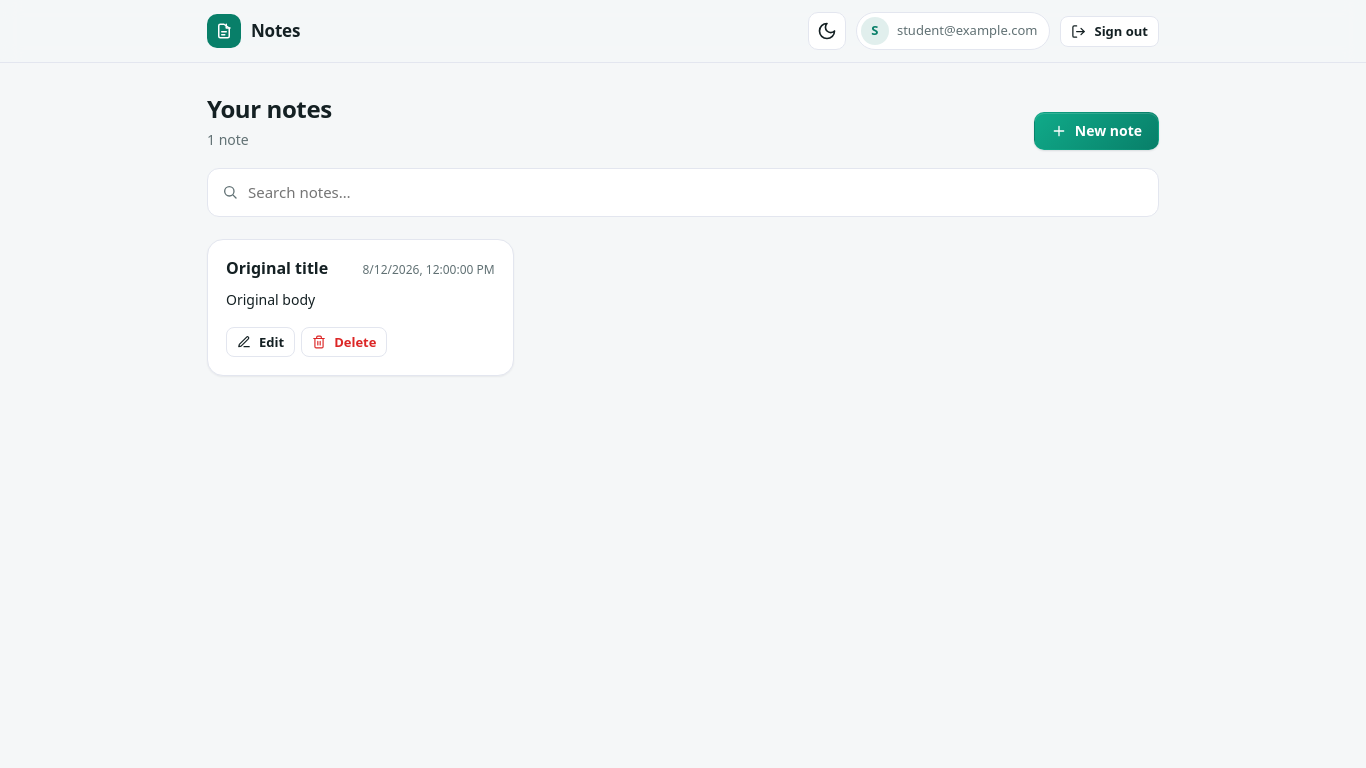
Test case: AppShell state transitions › creates a note and prepends it without a list refetch
The image size is (1366, 768).
Expected: the heading "Original title" is shown, [226,258,328,279]
Click the button "New note" at (1096, 131), box [1034,112,1159,150]
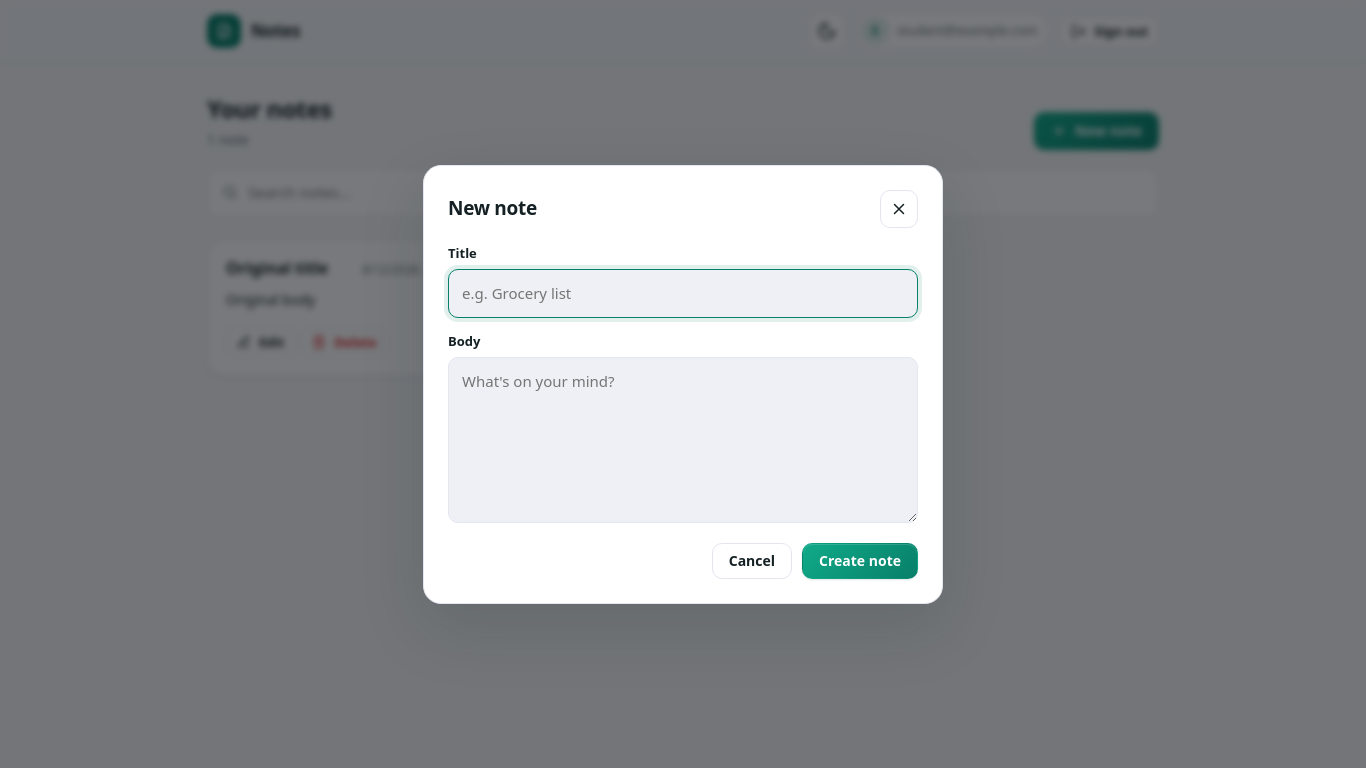
Type "New title" into the field labelled "Title" at (683, 293), box [448,269,918,318]
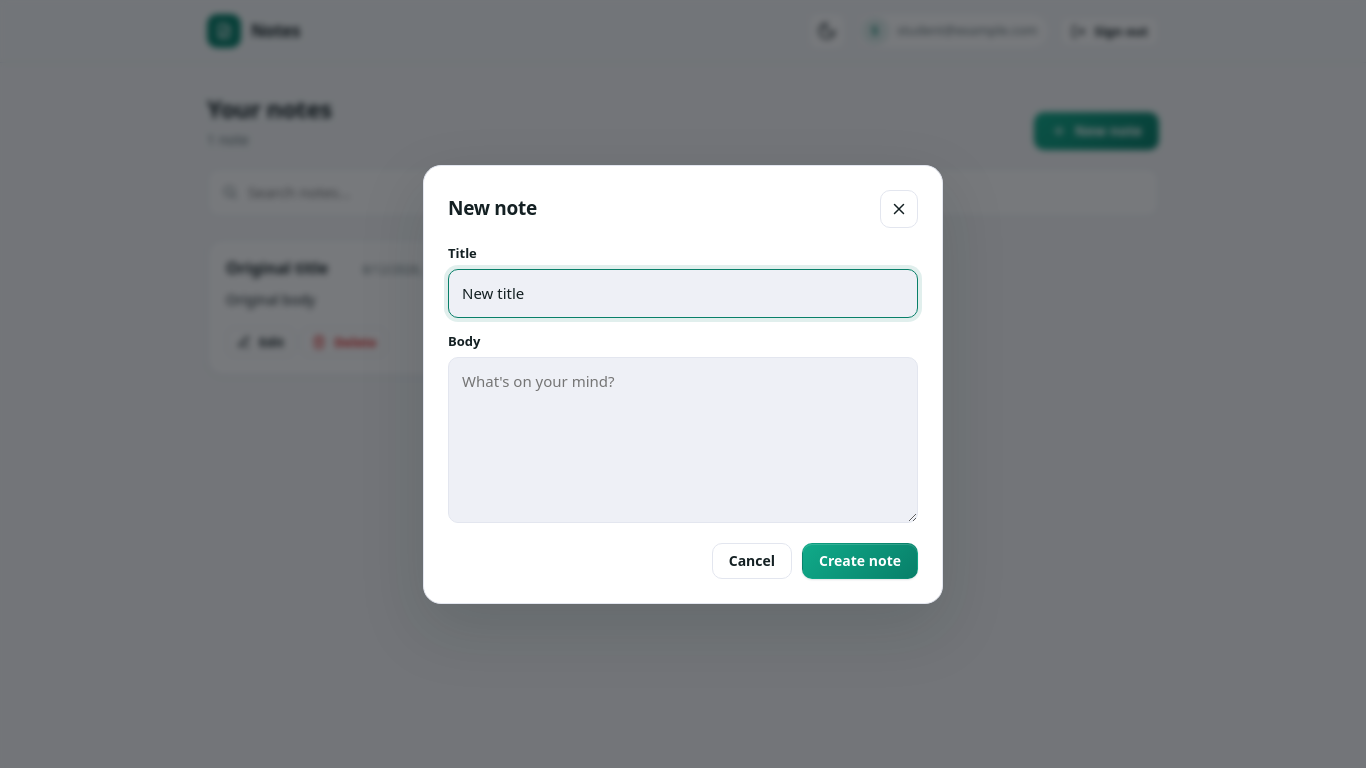
Type "New body" into the text box labelled "Body" at (683, 440), box [448,357,918,522]
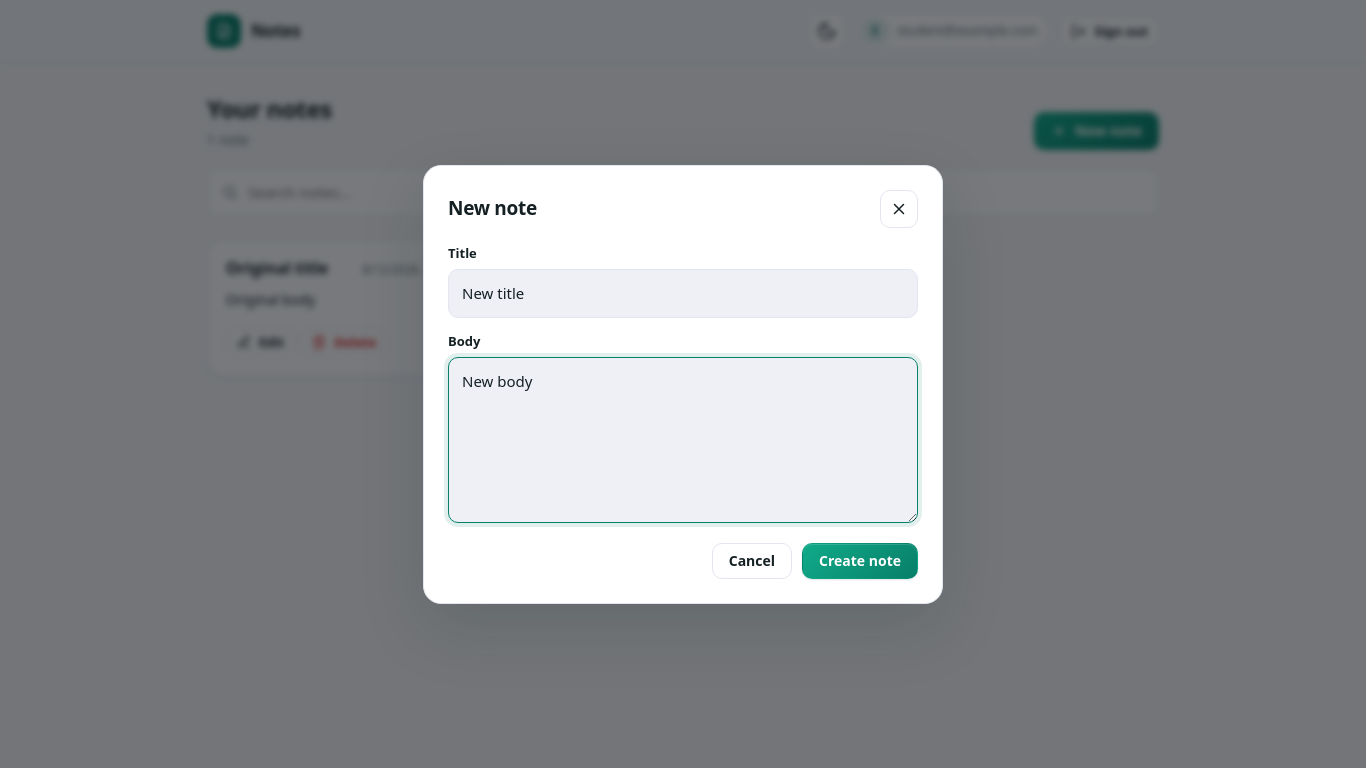
Click the button "Create note" at (860, 560), box [802,542,918,578]
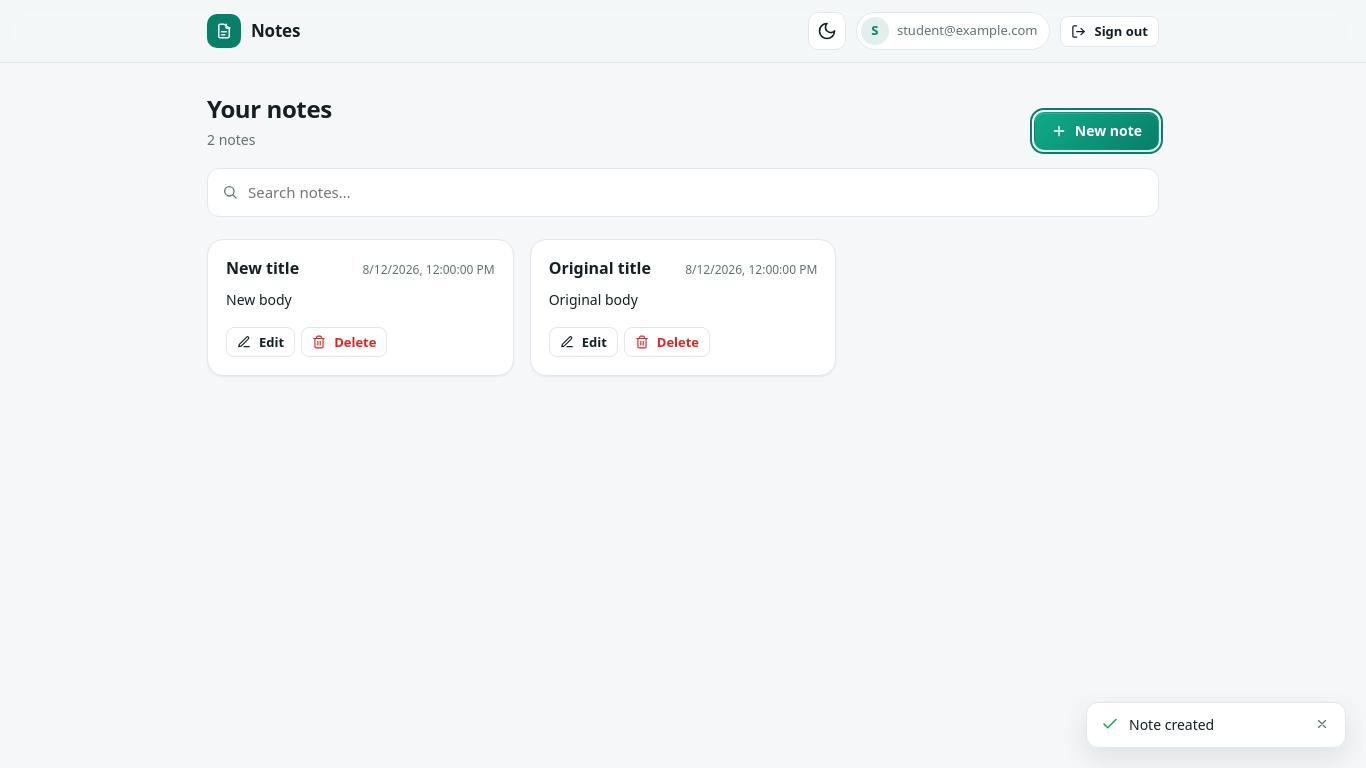
Now the heading "New title" is shown, box [226,258,299,279]
